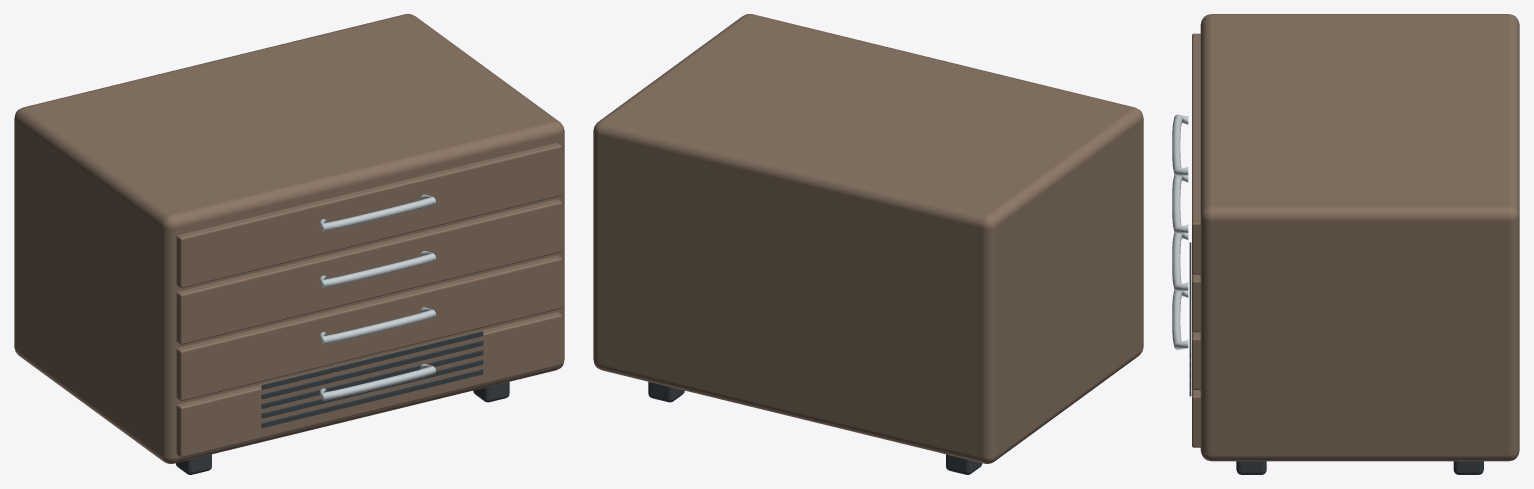
The model's file is abandoned-weather-station-and-storm-shelter-map-drawer-51d31ca0__31035.glb.
3 renders of one model, left to right at view 1: azimuth 30°, elevation 25°; view 2: azimuth 150°, elevation 25°; view 3: azimuth 270°, elevation 25°, orthographic. The views are drawn at different scales.
Parts seen in each view (by area): view 1: map-drawer; view 2: map-drawer; view 3: map-drawer.
Part boxes in pixels (x1,y1,x2,y2): map-drawer: (14, 14, 564, 474); map-drawer: (593, 14, 1143, 474); map-drawer: (1172, 14, 1519, 474).
Size of the model in its own units: 1.1 by 0.73 by 0.8056.
